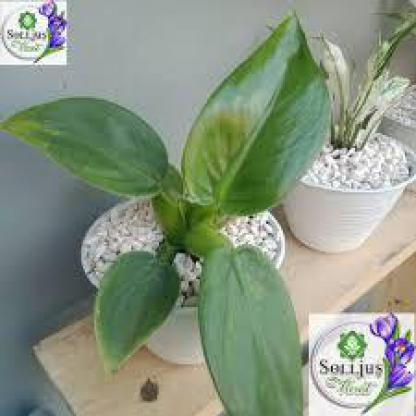Kenanga: (178, 101, 234, 149), (88, 20, 140, 68)
